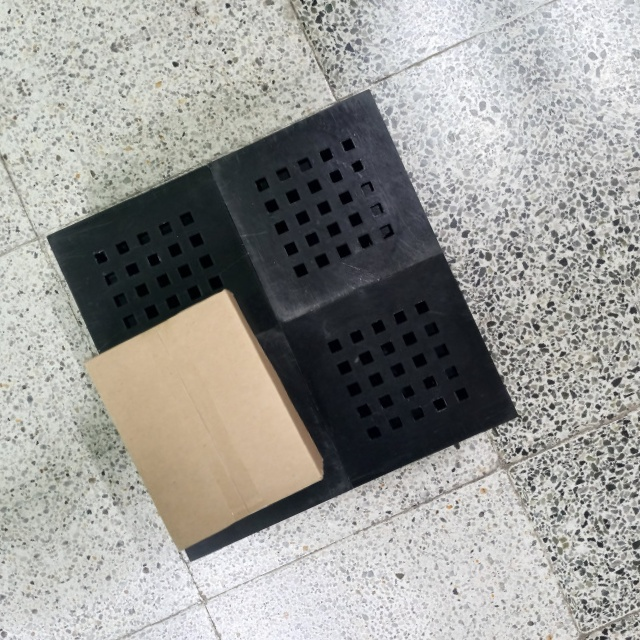box: (81, 285, 325, 558)
pallet: (26, 50, 529, 580)
